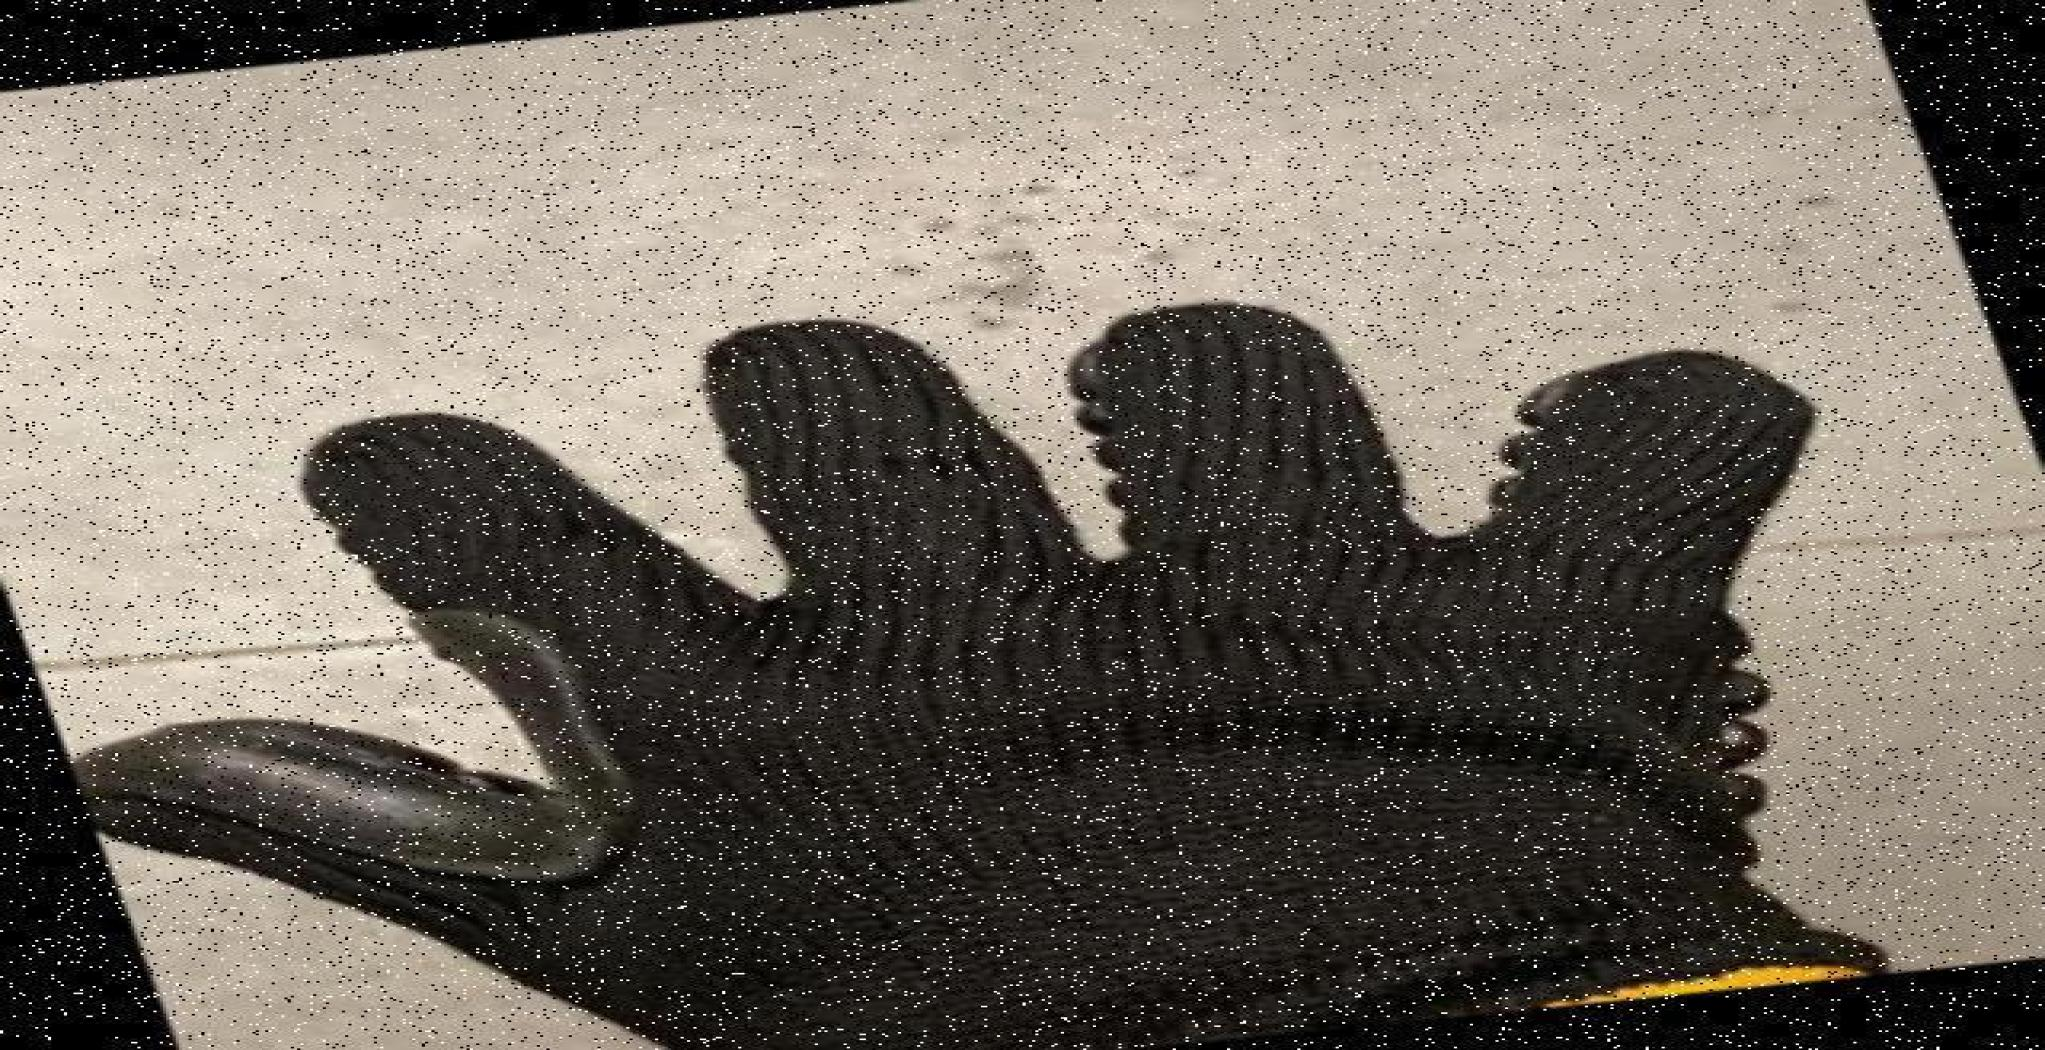gloved: (153, 374, 1464, 1050)
